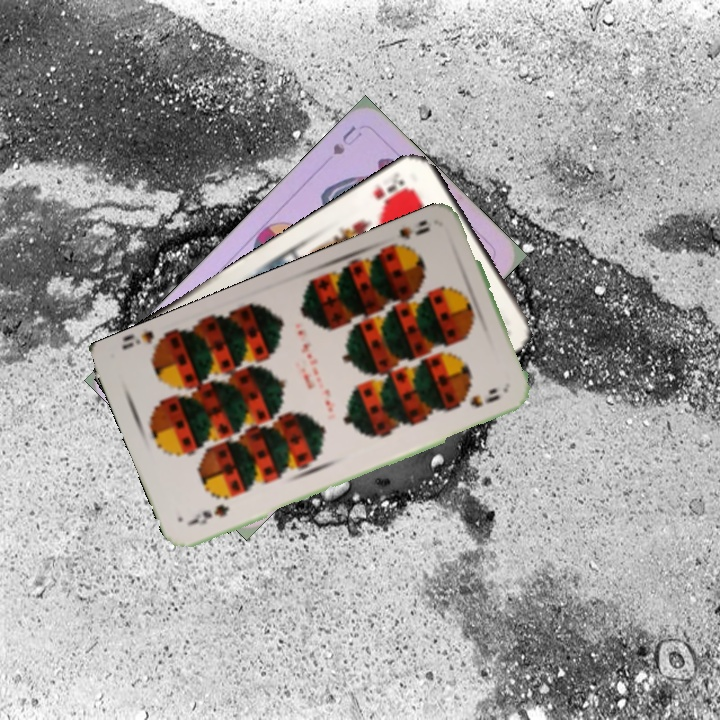HK: (369, 175, 416, 211)
S9: (385, 216, 432, 250), (185, 500, 232, 528)
SU: (328, 121, 365, 158)
